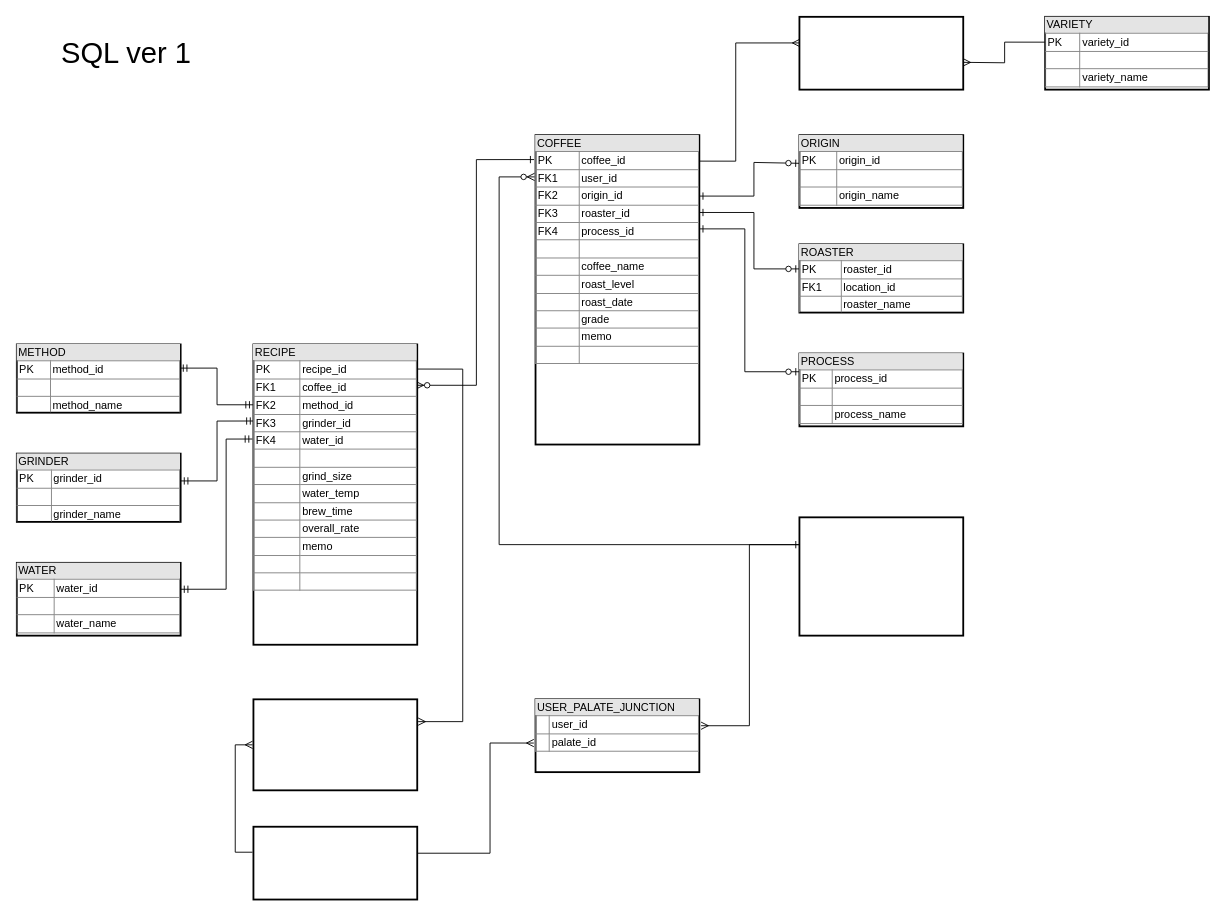
Image size: 1225x915. Some labels were removed from this diagram. Each missing label, with the centre of its shape:
"COFFEE_VARIETY_JUNCTION coffee_id variety_id" goes at [881,52].
"PALATE PK palate_id palate_name" goes at [335,862].
"RECIPE_PALATE_JUNCTION recipe_id palate_id rate" goes at [335,744].
"USER PK user_id user_name email_address" goes at [881,576].
